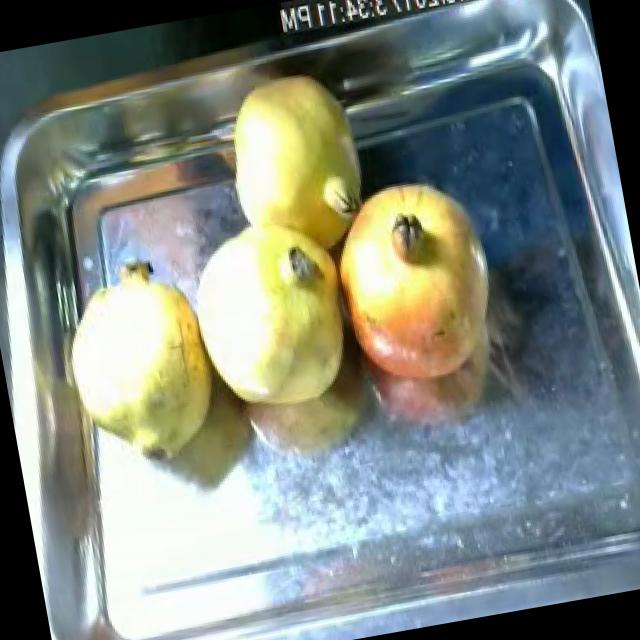fruit: (311, 158, 522, 412), (46, 249, 230, 483), (182, 200, 366, 431), (208, 58, 380, 261)
